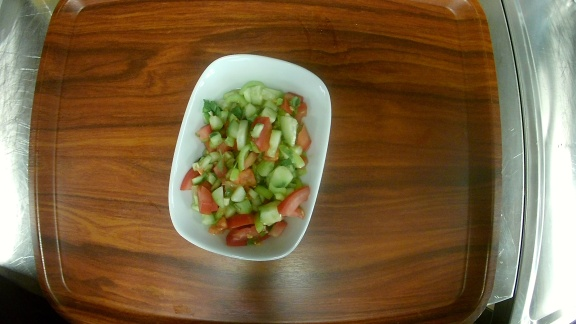cobansalata: (168, 54, 333, 260)
